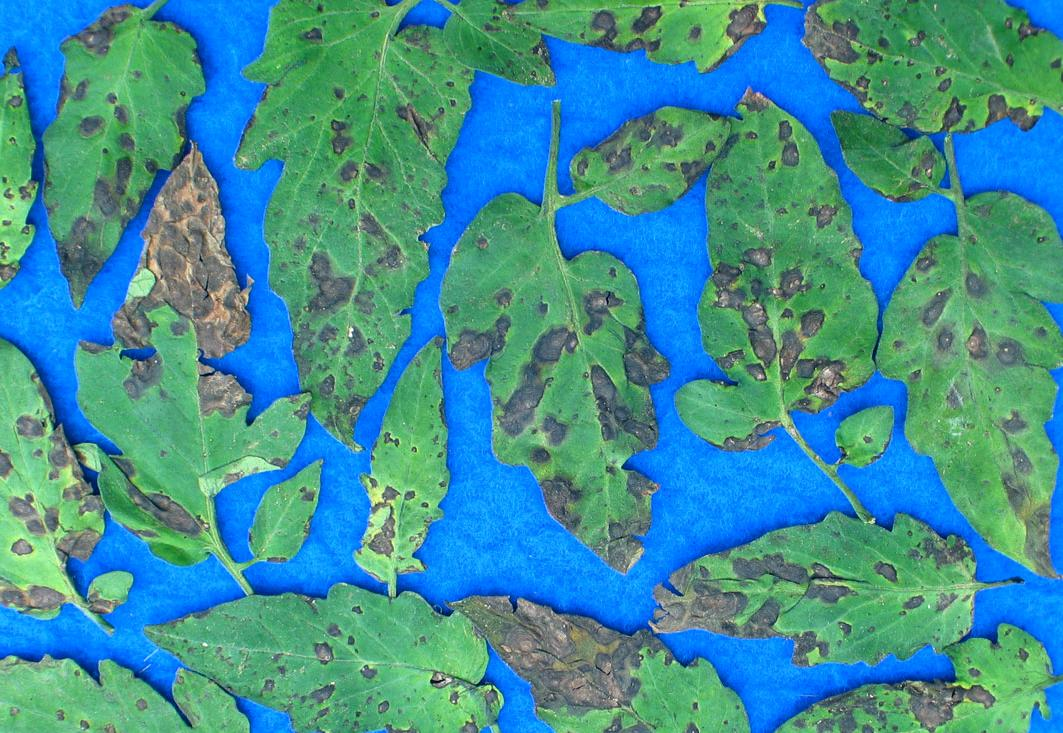Tomato Early blight leaf: (246, 0, 491, 483), (446, 187, 666, 569), (676, 75, 869, 443), (888, 182, 1063, 586), (636, 510, 979, 665), (39, 0, 206, 306), (161, 589, 512, 732), (442, 592, 752, 733), (801, 0, 1063, 153), (0, 322, 104, 645), (751, 635, 1059, 733), (346, 335, 452, 592), (0, 639, 264, 733), (501, 0, 801, 67), (0, 9, 55, 310), (228, 445, 334, 580), (838, 113, 944, 209)
